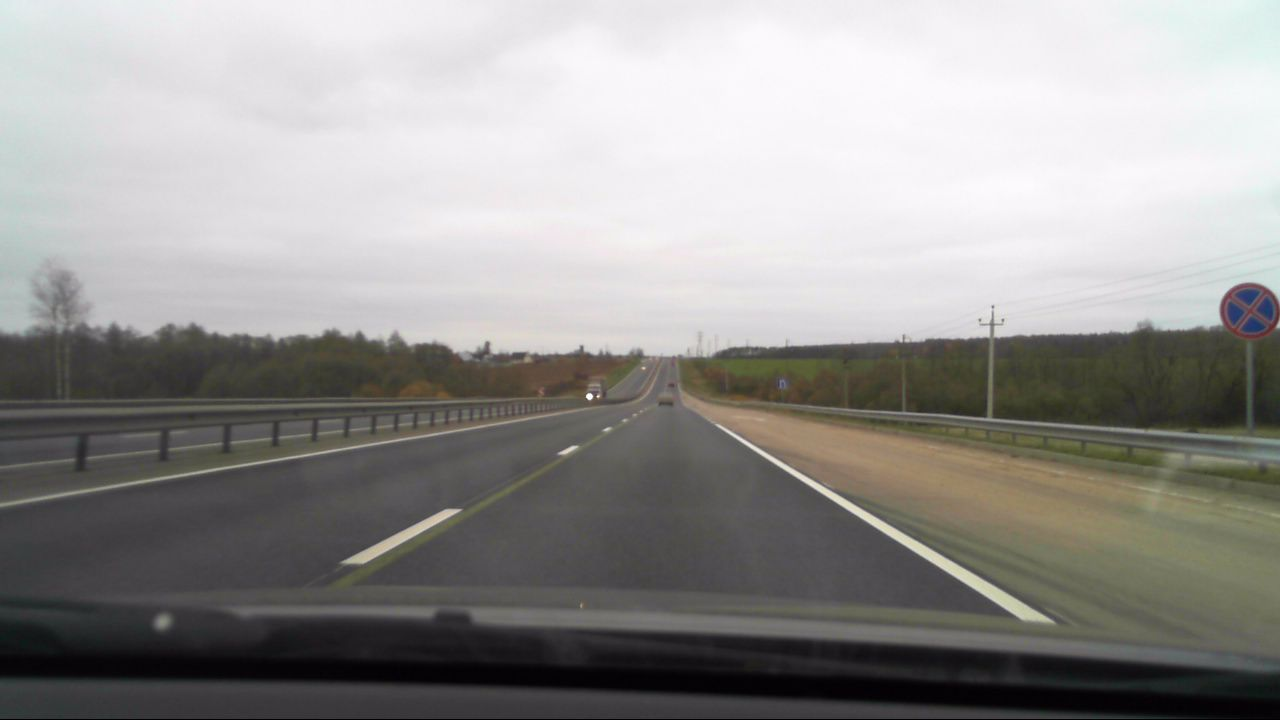No Parking: (1217, 280, 1279, 340)
